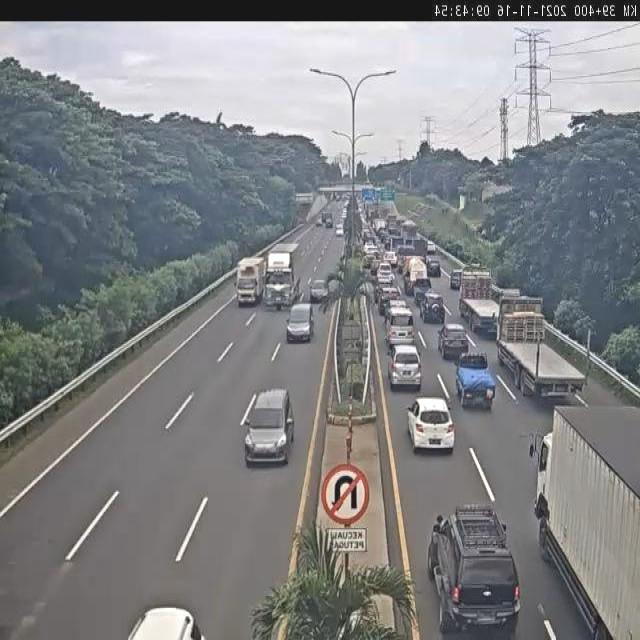Car: (429, 484, 524, 630), (243, 386, 294, 464), (407, 397, 455, 453), (454, 351, 496, 410), (387, 345, 423, 392), (437, 322, 469, 360), (384, 306, 414, 346), (285, 302, 315, 342), (420, 291, 444, 323), (378, 286, 400, 315), (308, 278, 328, 304), (382, 251, 398, 271), (377, 262, 392, 283), (426, 257, 441, 278), (369, 253, 382, 274), (363, 241, 376, 259), (363, 229, 374, 247), (324, 214, 333, 228), (336, 226, 344, 237)
Truck: (529, 398, 639, 640), (499, 292, 574, 386), (462, 261, 502, 323), (235, 244, 266, 311), (268, 248, 290, 311), (402, 257, 428, 296), (387, 233, 404, 254), (366, 208, 378, 224), (346, 195, 357, 212), (388, 225, 401, 239), (376, 224, 386, 240), (386, 214, 396, 230), (384, 237, 392, 250)
